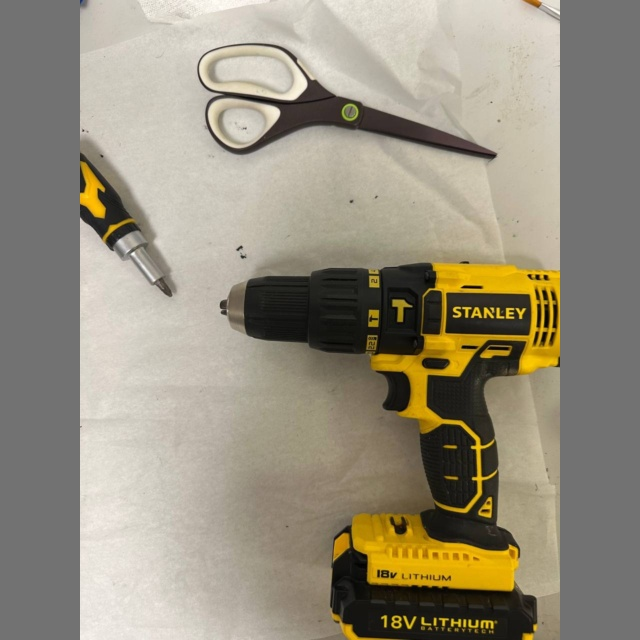drill: (221, 262, 560, 640)
scissor: (198, 44, 496, 159)
screwdriver: (80, 154, 172, 296)
